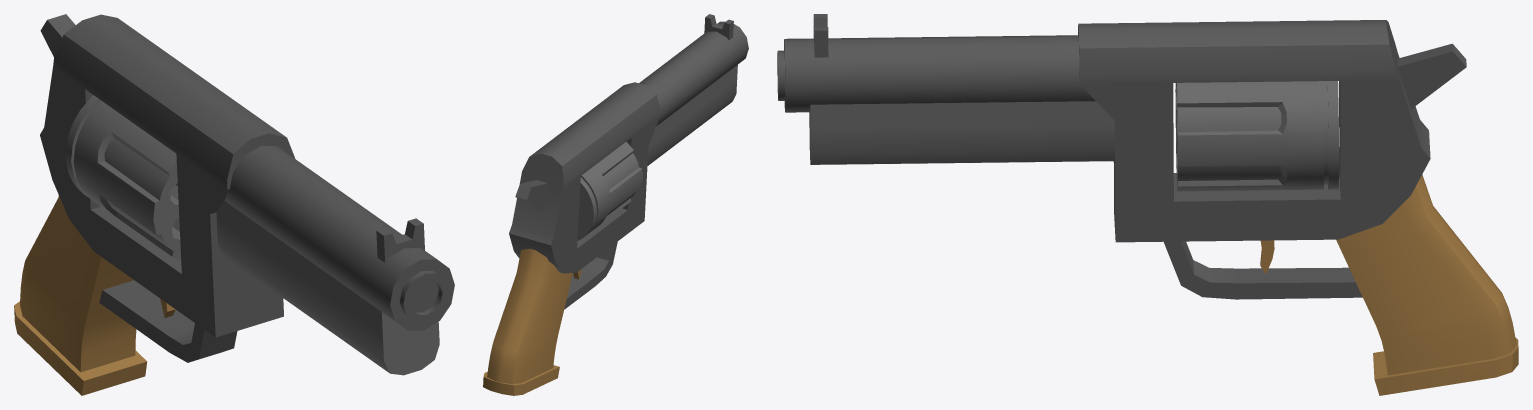
The model's file is pistol3-food.fbx.
3 renders of one model, left to right at view 1: azimuth 30°, elevation 25°; view 2: azimuth 150°, elevation 25°; view 3: azimuth 270°, elevation 25°, orthographic. The views are drawn at different scales.
Parts seen in each view (by area): view 1: pistol3-food; view 2: pistol3-food; view 3: pistol3-food.
Boxes of the visible parts, bbox=[...] form: pistol3-food: bbox=[14, 14, 454, 395]; pistol3-food: bbox=[483, 14, 748, 395]; pistol3-food: bbox=[777, 14, 1518, 395].
Size of the model in its own units: 0.0888 by 0.2683 by 0.5015.
